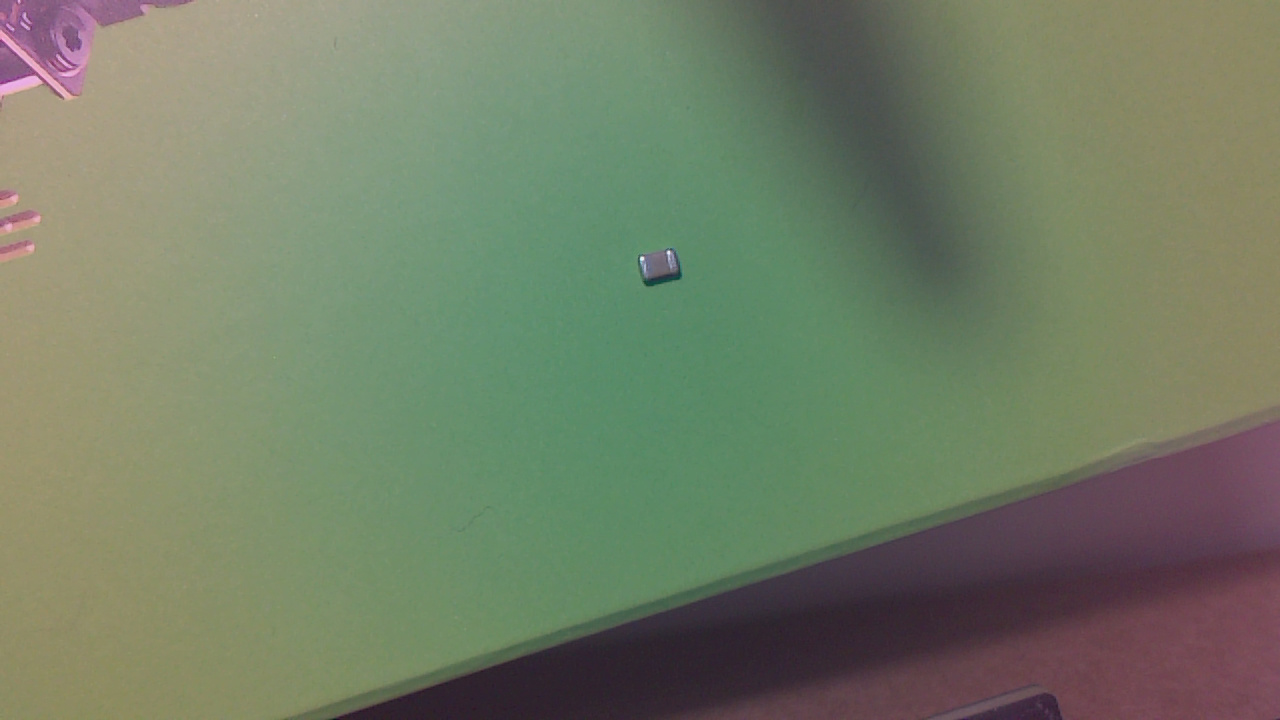Condensator: (637, 251, 689, 291)
